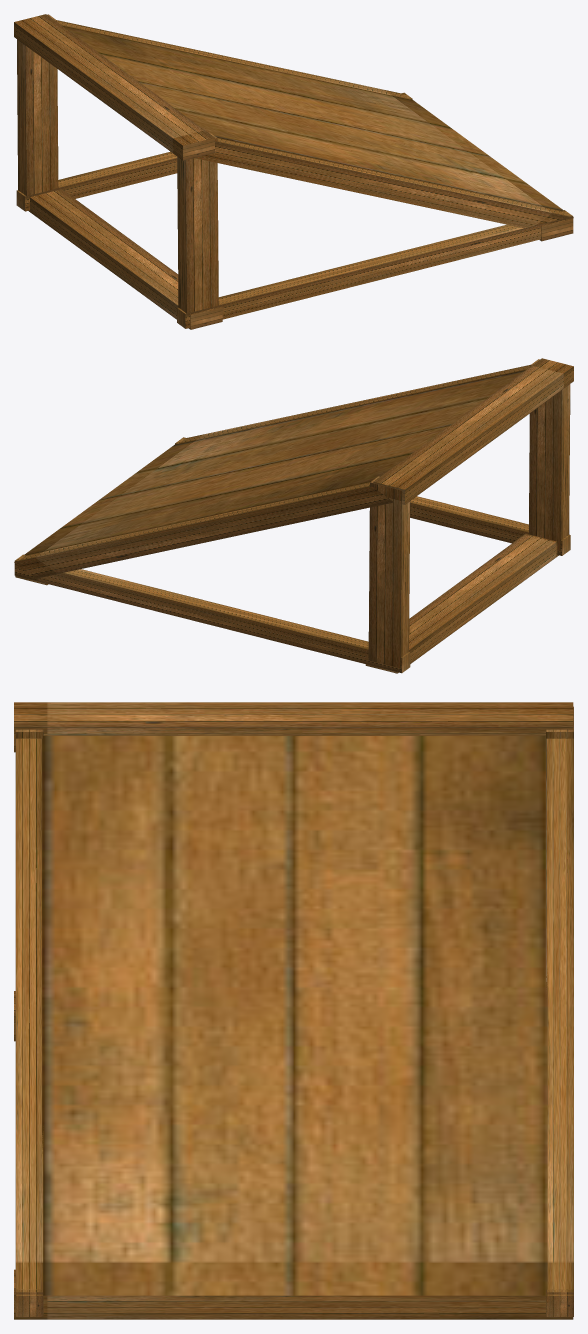
Rendered from 5S_09duantiaoban.FBX.
3 renders of one model, top to bottom at view 1: azimuth 30°, elevation 25°; view 2: azimuth 150°, elevation 25°; view 3: azimuth 270°, elevation 25°, orthographic. The views are drawn at different scales.
Parts seen in each view (by area): view 1: 5S_jump; view 2: 5S_jump; view 3: 5S_jump.
Boxes of the visible parts, x1=… form: 5S_jump: x1=14, y1=14, x2=573, y2=329; 5S_jump: x1=14, y1=358, x2=573, y2=673; 5S_jump: x1=14, y1=702, x2=573, y2=1319.
Size of the model in its own units: 4.02 by 1.83 by 3.01.
1 material, 1 textured.
